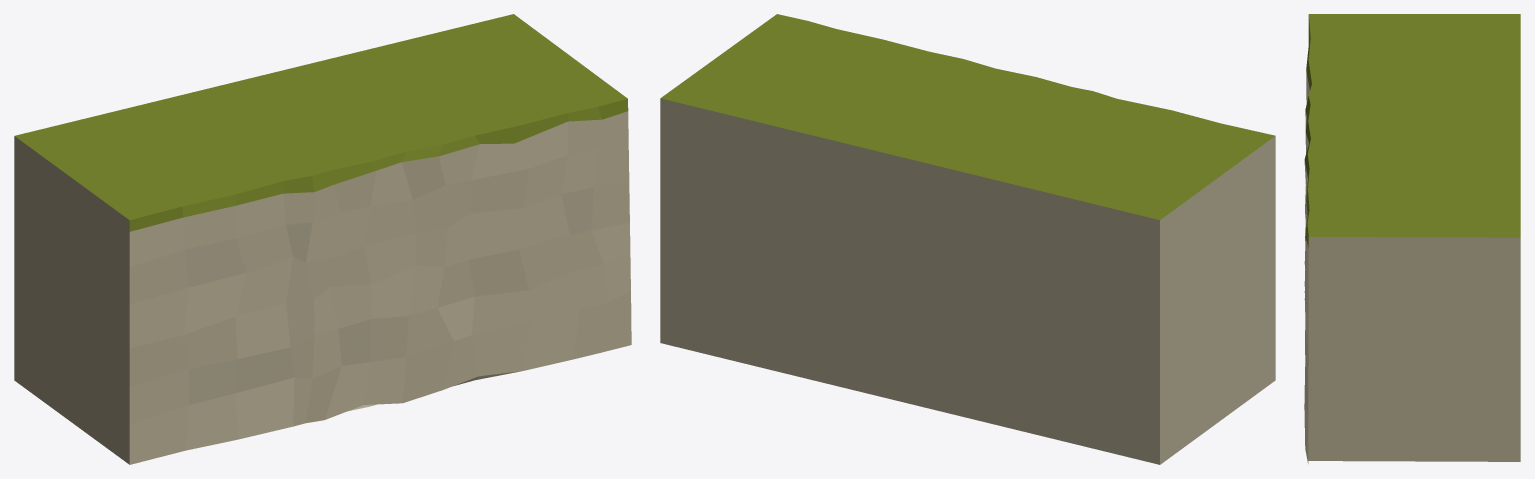
Rendered from cliff.fbx.
3 renders of one model, left to right at view 1: azimuth 30°, elevation 25°; view 2: azimuth 150°, elevation 25°; view 3: azimuth 270°, elevation 25°, orthographic. The views are drawn at different scales.
Visible parts, largest first — view 1: CliffRock; view 2: CliffRock; view 3: CliffRock.
Boxes of the visible parts, box(x1,y1,x2,y2) form: CliffRock: box(14, 14, 631, 464); CliffRock: box(660, 14, 1275, 464); CliffRock: box(1304, 14, 1520, 463).
Bounding box in the file's own units: 4837 × 2301 × 1968.
